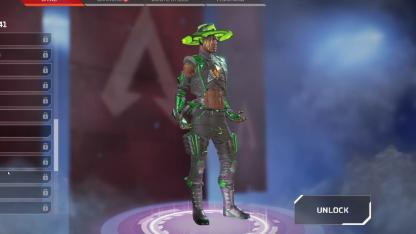Target: (176, 23, 242, 187)
